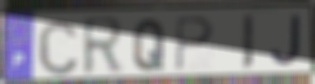C: (36, 17, 80, 78)
I: (241, 12, 256, 73)
J: (268, 13, 303, 69)
P: (174, 16, 216, 74)
Q: (131, 17, 167, 74)
R: (81, 13, 127, 79)
